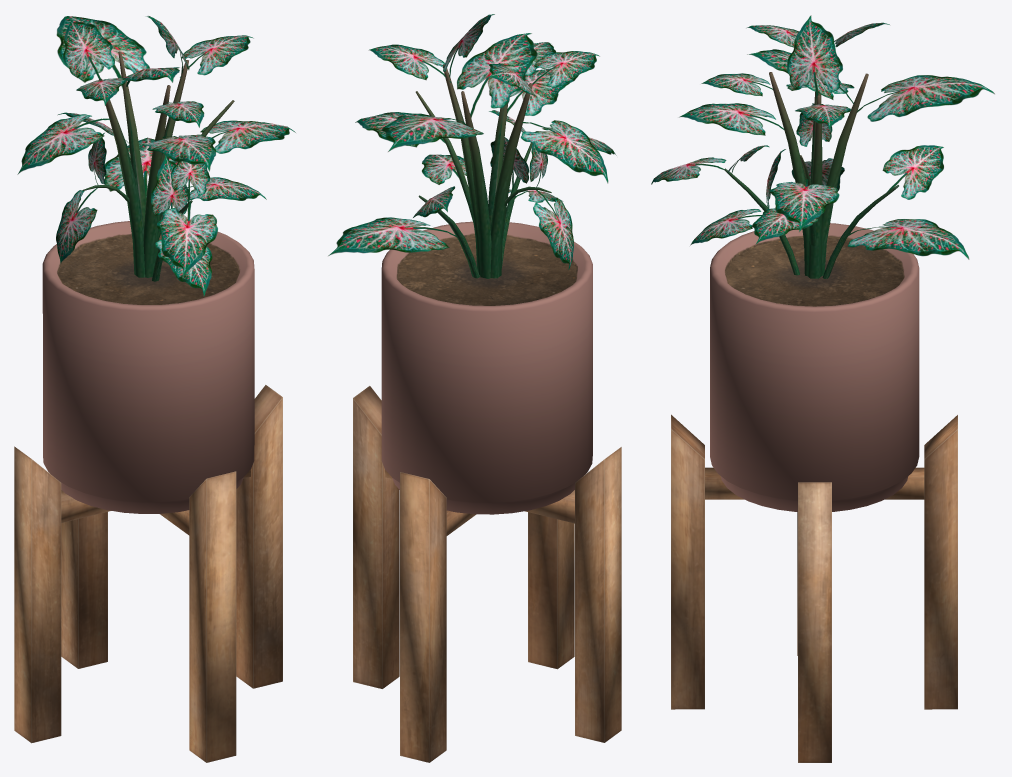
3 renders of one model, left to right at view 1: azimuth 30°, elevation 25°; view 2: azimuth 150°, elevation 25°; view 3: azimuth 270°, elevation 25°, orthographic.
Visible parts, largest first — view 1: planter_low, base-wood_low, Plane.012, Plane.017, Plane.018, Plane.025, Plane, Plane.021, Plane.023, Plane.002, Plane.016, Plane.027 (+12 smaller); view 2: planter_low, base-wood_low, Plane.004, Plane.019, Plane.017, Plane.018, Plane, Plane.003, Plane.023, Plane.026, Plane.027, Plane.016 (+11 smaller); view 3: planter_low, base-wood_low, Plane.018, Plane.019, Plane.028, Plane.005, Plane.021, Plane.016, Plane.003, wood-support_low, Plane.001, Plane.002 (+8 smaller).
Boxes of the visible parts, x1,y1,x2,y2 form: planter_low: (42,221,254,513); base-wood_low: (14,385,282,762); Plane.012: (156,202,217,277); Plane.017: (17,114,110,174); Plane.018: (56,16,149,88); Plane.025: (63,20,114,78); Plane: (101,78,145,277); Plane.021: (200,120,295,153); Plane.023: (56,188,97,263); Plane.002: (143,85,170,277); Plane.016: (144,134,216,171); Plane.027: (180,35,253,77); planter_low: (381,221,592,514); base-wood_low: (353,386,621,762); Plane.004: (457,33,537,117); Plane.019: (328,217,457,255); Plane.017: (520,120,608,183); Plane.018: (381,116,483,151); Plane: (490,83,532,278); Plane.003: (461,91,491,278); Plane.023: (533,190,573,270); Plane.026: (532,51,599,87); Plane.027: (369,44,451,82); Plane.016: (491,68,569,115); planter_low: (710,223,919,511); base-wood_low: (671,414,957,762); Plane.018: (856,75,994,121); Plane.019: (847,219,969,259); Plane.028: (787,15,842,99); Plane.005: (882,145,943,199); Plane.021: (769,179,839,232); Plane.016: (679,103,784,135); Plane.003: (821,73,868,275); wood-support_low: (705,467,924,499); Plane.001: (807,95,822,278); Plane.002: (769,72,809,276).
Size of the model in its own units: 0.5445 by 1.34 by 0.6172.
Materials: 1 (1 with a texture image).
